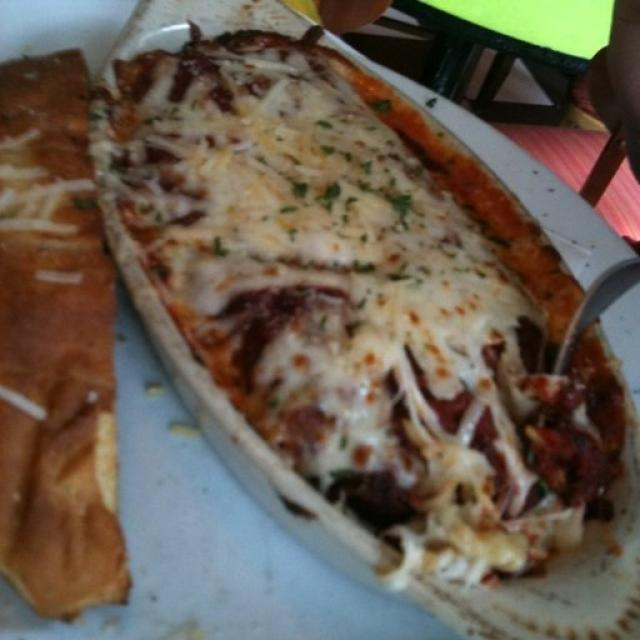Lasagna: (155, 62, 571, 538)
